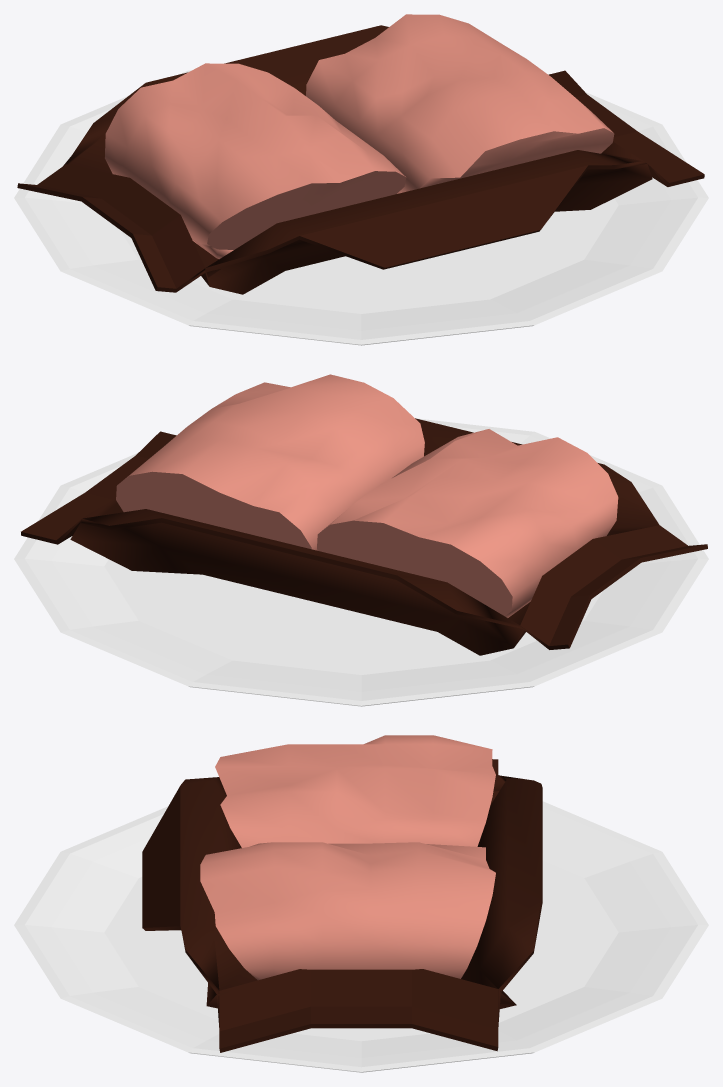
Rendered from Food_plate.fbx.
3 views of the same model, one above another, from view 1: azimuth 30°, elevation 25°; view 2: azimuth 150°, elevation 25°; view 3: azimuth 270°, elevation 25° (orthographic).
Visible parts, largest first — view 1: Meal; view 2: Meal; view 3: Meal.
Boxes of the visible parts, x1,y1,x2,y2 form: Meal: [14, 14, 708, 345]; Meal: [14, 374, 708, 706]; Meal: [14, 735, 708, 1072].
Size of the model in its own units: 147 by 29.48 by 147.
